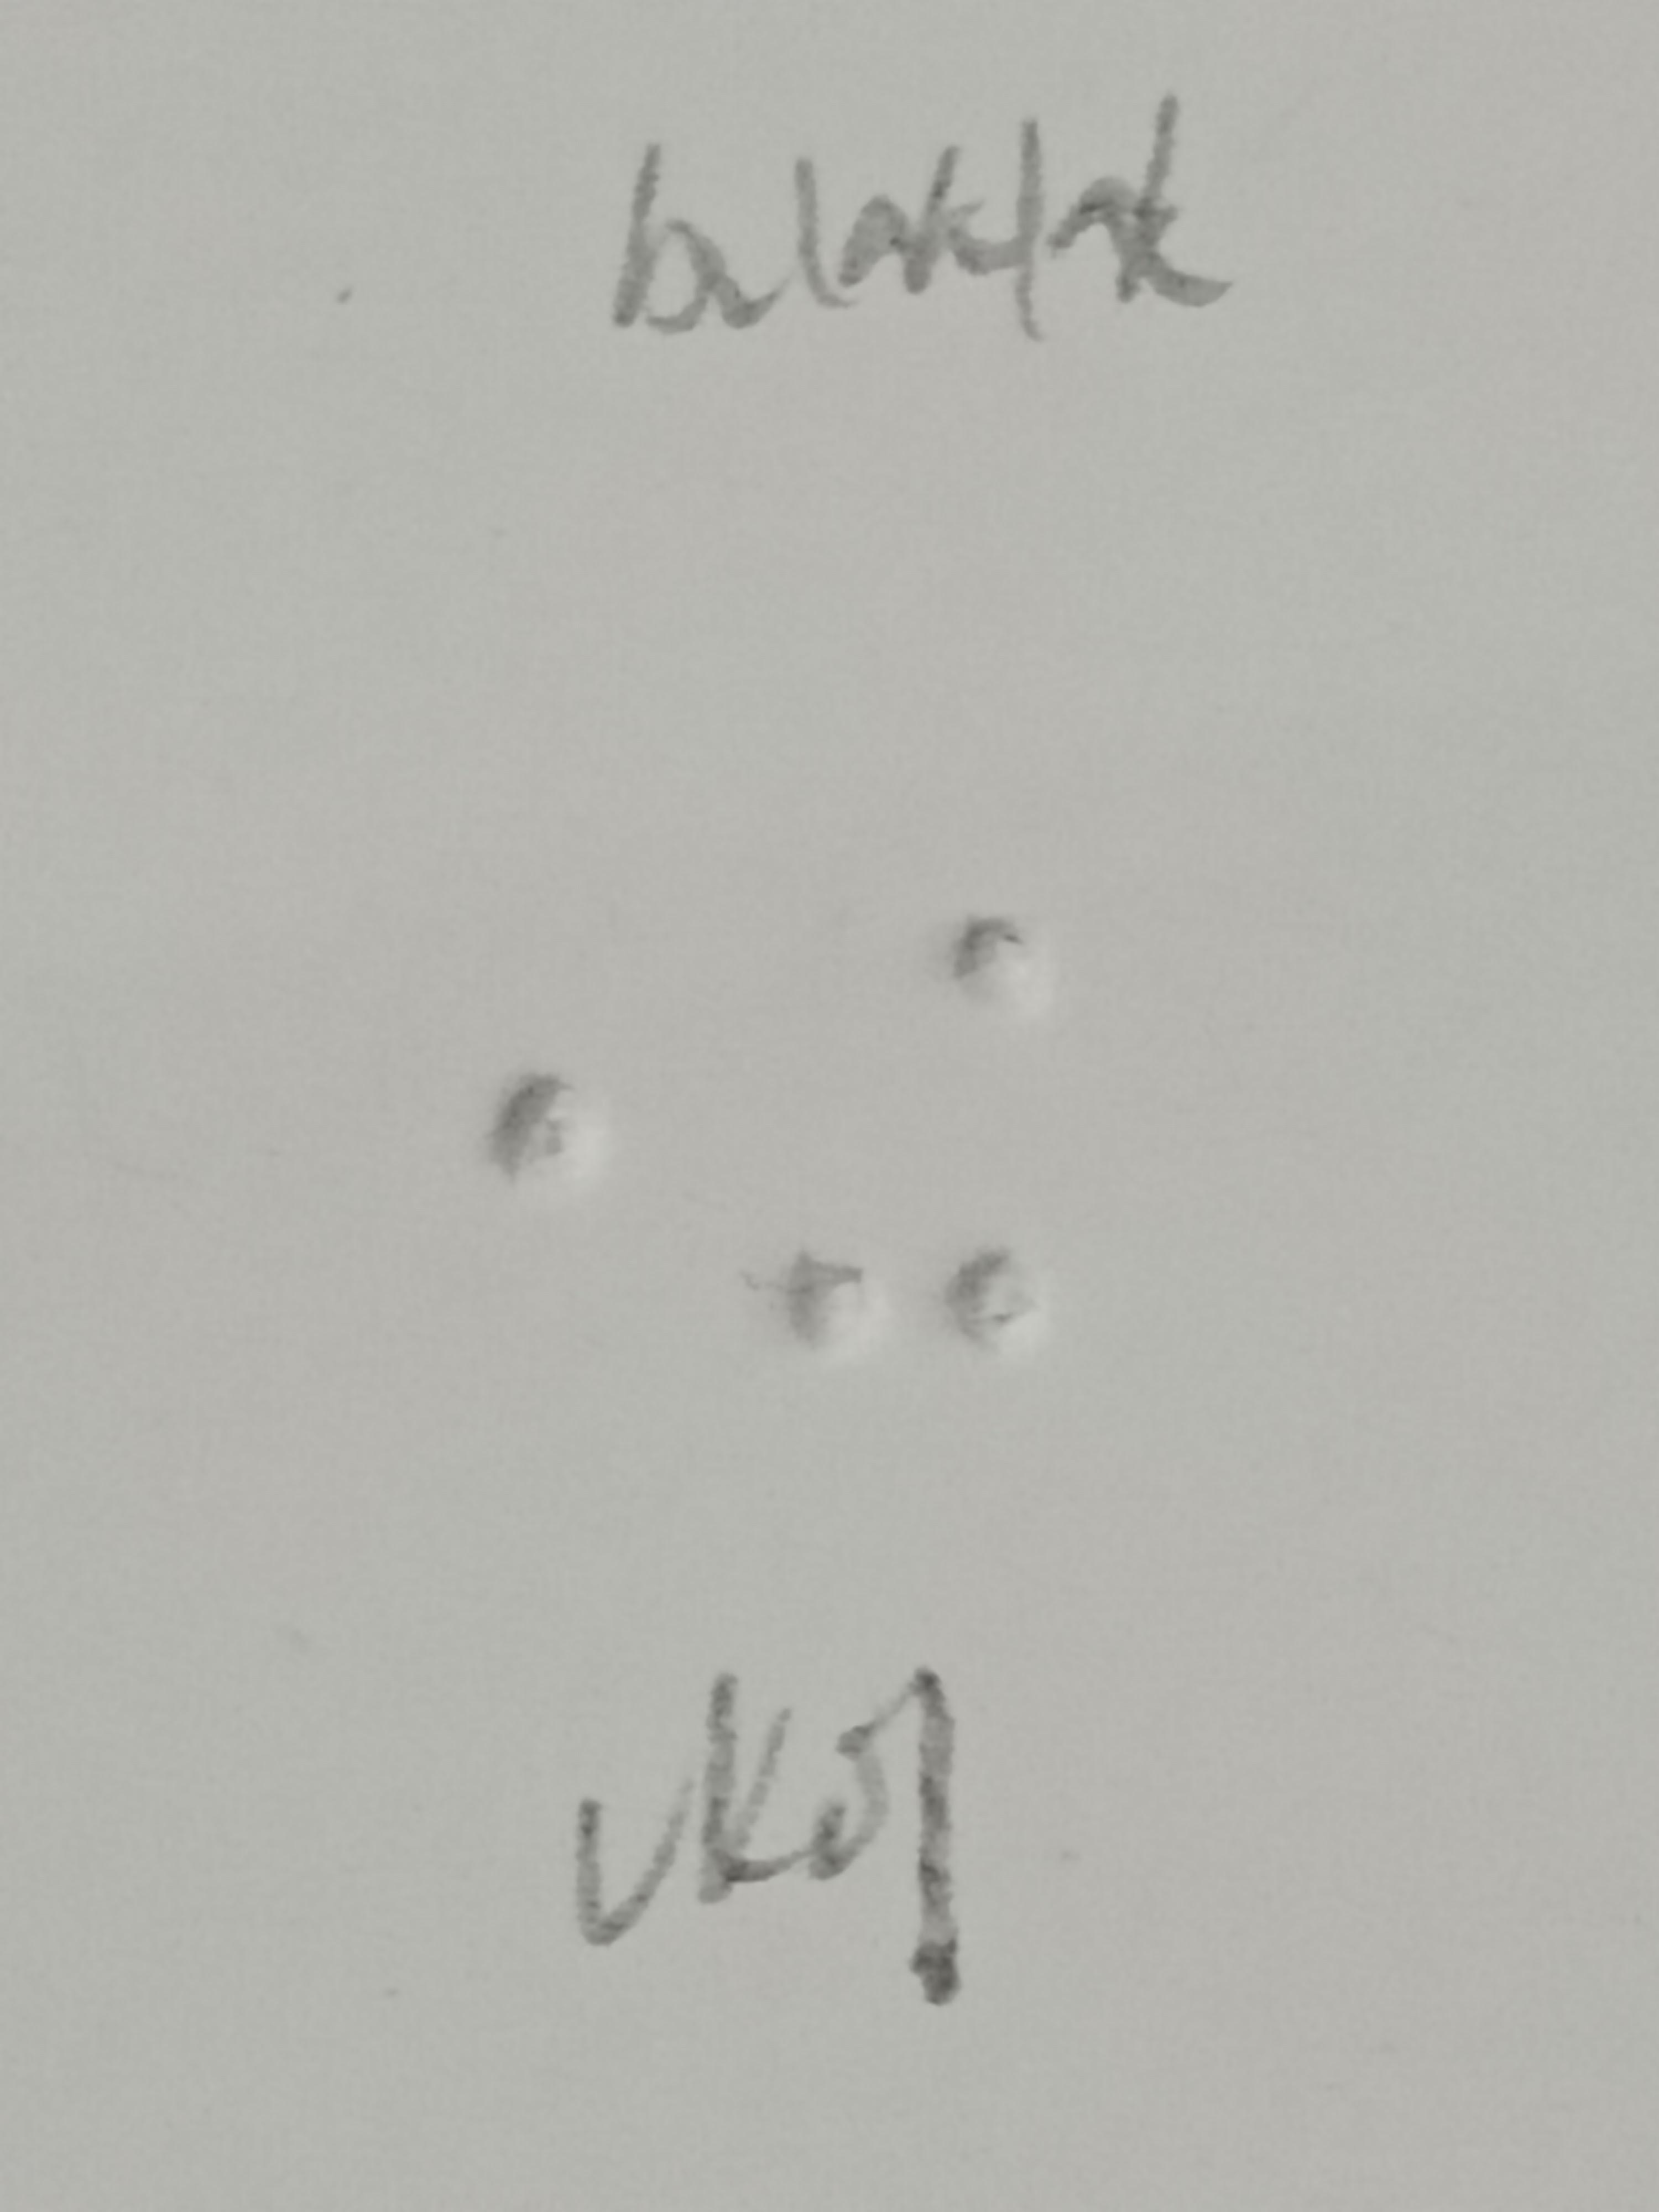dot_5: (329, 907, 606, 1374)
two_cell_non_alphabet_ukol: (775, 902, 1053, 1371)
